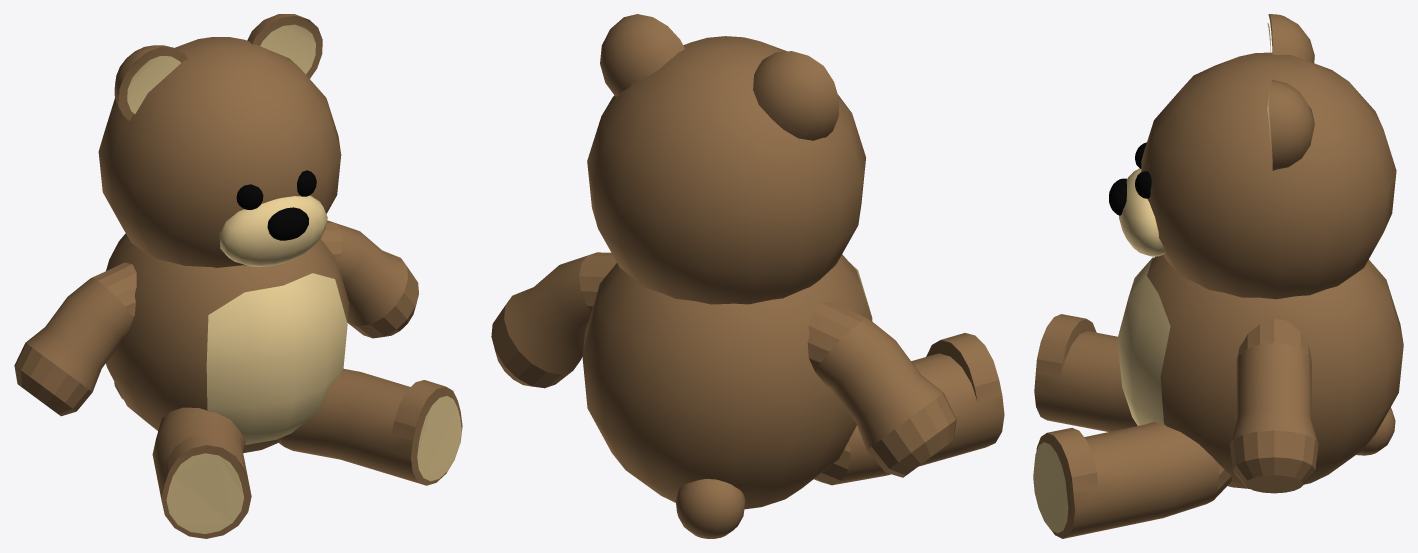
Rendered from Osito.FBX.
3 views of the same model, side by side, from view 1: azimuth 30°, elevation 25°; view 2: azimuth 150°, elevation 25°; view 3: azimuth 270°, elevation 25° (orthographic). The views are drawn at different scales.
Parts seen in each view (by area): view 1: Sphere004, Object001, Sphere001, Cylinder006, Cylinder007, Cylinder005, Cylinder002, Object002, Sphere005, Object006, Object004, Sphere010 (+4 smaller); view 2: Sphere004, Sphere001, Cylinder007, Cylinder005, Cylinder002, Sphere010, Sphere009, Sphere011; view 3: Sphere004, Sphere001, Cylinder006, Cylinder005, Cylinder002, Object001, Sphere009, Object006, Sphere005, Sphere010, Sphere011, Sphere006.
Part boxes in pixels (left/top/right/bottom): Sphere004: left=98, top=37, right=341, bottom=267; Object001: left=206, top=273, right=347, bottom=444; Sphere001: left=106, top=233, right=349, bottom=452; Cylinder006: left=278, top=368, right=462, bottom=485; Cylinder007: left=14, top=262, right=136, bottom=416; Cylinder005: left=320, top=220, right=418, bottom=338; Cylinder002: left=152, top=407, right=251, bottom=538; Object002: left=166, top=453, right=244, bottom=533; Sphere005: left=219, top=195, right=327, bottom=266; Object006: left=417, top=396, right=461, bottom=481; Object004: left=260, top=24, right=315, bottom=74; Sphere010: left=114, top=45, right=187, bottom=120; Sphere004: left=587, top=36, right=865, bottom=304; Sphere001: left=582, top=254, right=872, bottom=509; Cylinder007: left=807, top=301, right=956, bottom=477; Cylinder005: left=491, top=252, right=616, bottom=388; Cylinder002: left=814, top=333, right=1004, bottom=485; Sphere010: left=753, top=51, right=839, bottom=140; Sphere009: left=600, top=14, right=684, bottom=96; Sphere011: left=675, top=479, right=745, bottom=538; Sphere004: left=1141, top=52, right=1396, bottom=299; Sphere001: left=1147, top=255, right=1403, bottom=488; Cylinder006: left=1036, top=421, right=1231, bottom=538; Cylinder005: left=1229, top=318, right=1318, bottom=493; Cylinder002: left=1034, top=314, right=1137, bottom=431; Object001: left=1117, top=257, right=1170, bottom=425; Sphere009: left=1268, top=80, right=1314, bottom=170; Object006: left=1033, top=442, right=1068, bottom=533; Sphere005: left=1119, top=168, right=1164, bottom=256; Sphere010: left=1268, top=14, right=1314, bottom=62; Sphere011: left=1356, top=407, right=1395, bottom=455; Sphere006: left=1109, top=178, right=1126, bottom=215.
Bounding box in the file's own units: 20.51 × 20.18 × 15.92.
